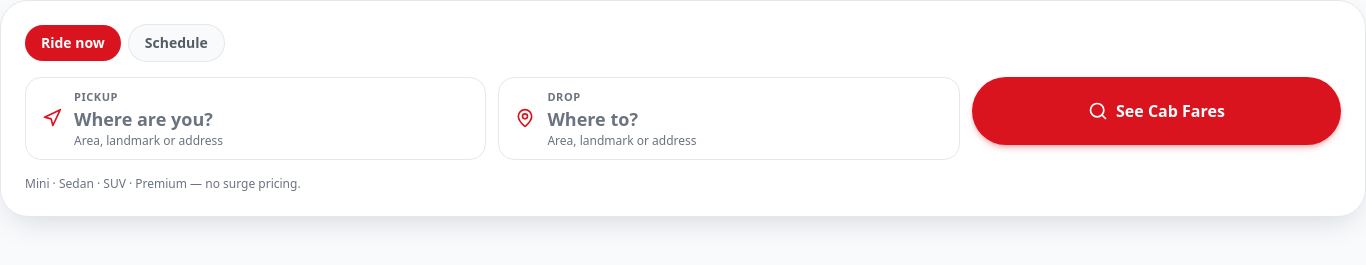
Test: SearchWidget — other services › validates cab addresses
Click the button "See Cab Fares": [1156, 111] box [972,77,1341,145]
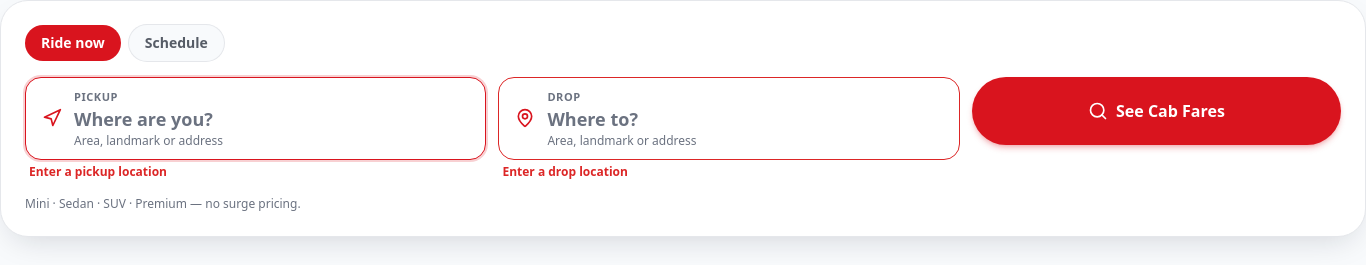
Expected: the text "Enter a pickup location" is shown, [29,163,167,180]
